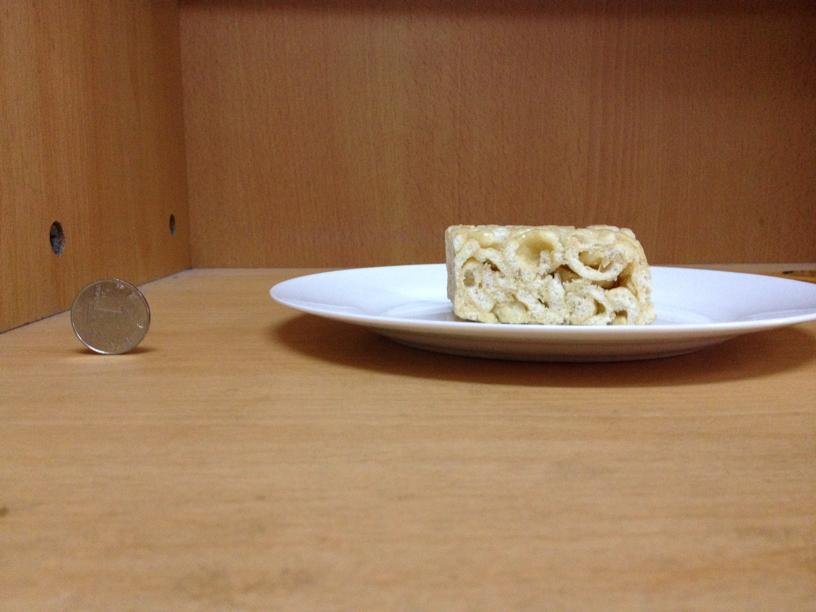coin: (69, 279, 152, 356)
sachima: (441, 225, 653, 324)
